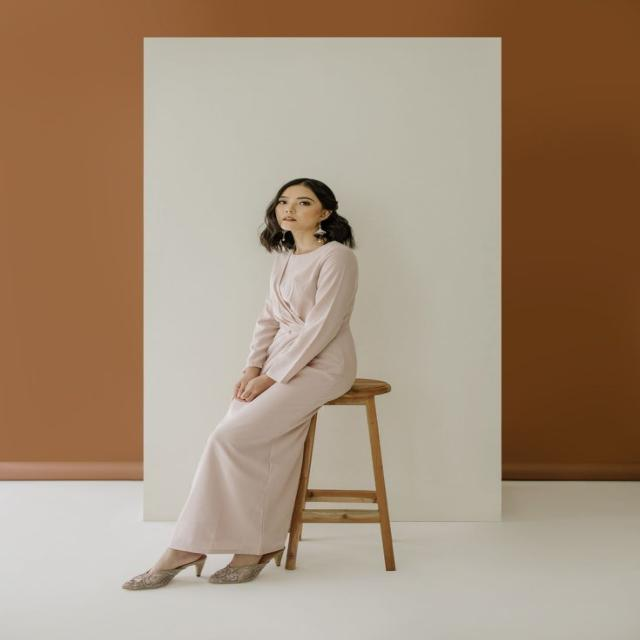obstacle: (282, 377, 396, 571)
person: (121, 178, 360, 590)
